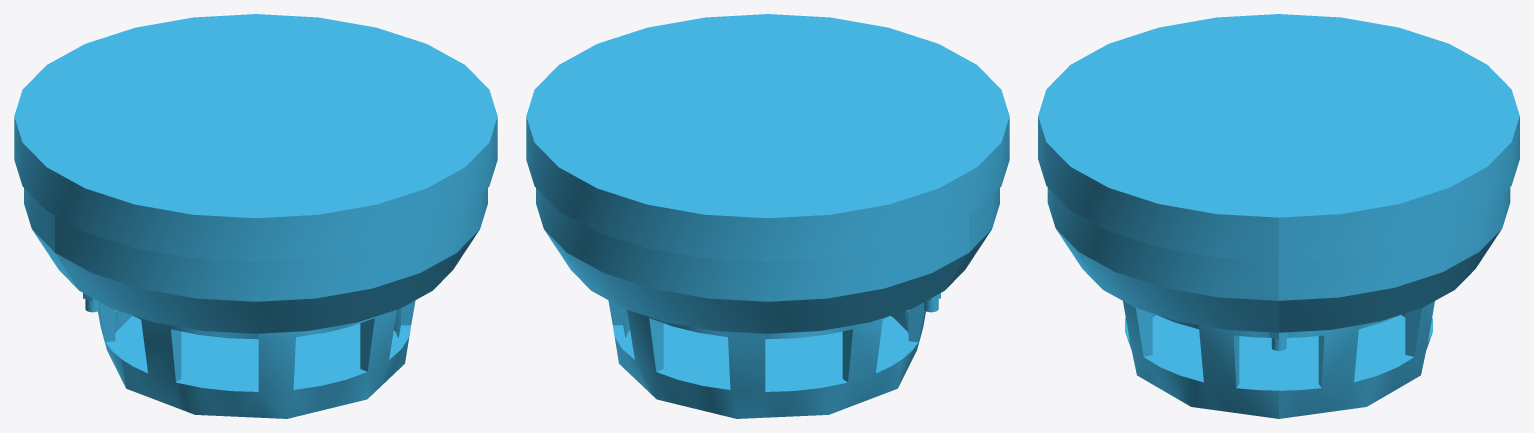
3 renders of one model, left to right at view 1: azimuth 30°, elevation 25°; view 2: azimuth 150°, elevation 25°; view 3: azimuth 270°, elevation 25°, orthographic.
Bounding box in the file's own units: 143 × 78.46 × 143.
